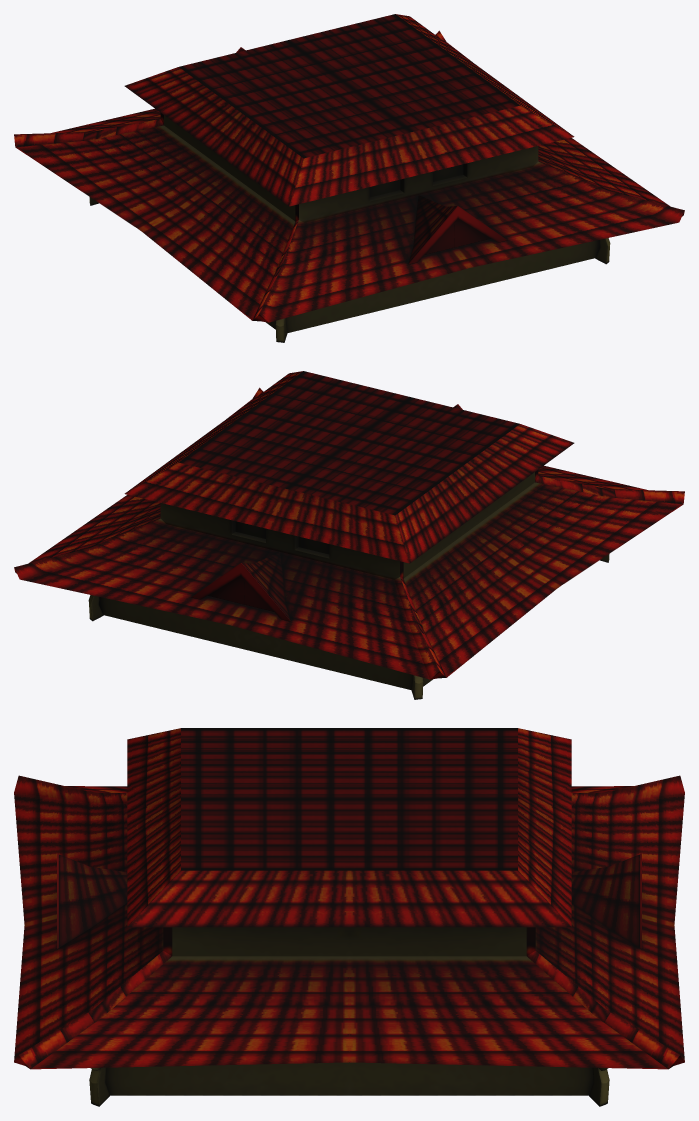
The model's file is MESH_AMB16_House2.fbx.
3 views of the same model, one above another, from view 1: azimuth 30°, elevation 25°; view 2: azimuth 150°, elevation 25°; view 3: azimuth 270°, elevation 25° (orthographic). The views are drawn at different scales.
Parts seen in each view (by area): view 1: middle; view 2: middle; view 3: middle.
Boxes of the visible parts, x1,y1,x2,y2 form: middle: [14, 14, 684, 342]; middle: [14, 371, 684, 699]; middle: [14, 728, 684, 1106].
Size of the model in its own units: 13.79 by 4.5 by 13.79.
